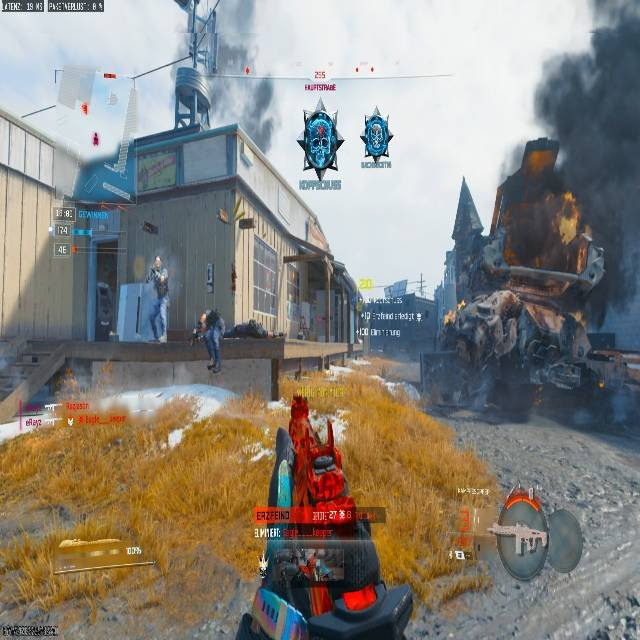head: (206, 308, 217, 321)
player: (296, 110, 343, 179), (140, 258, 172, 341), (195, 308, 224, 373), (361, 110, 391, 165)
